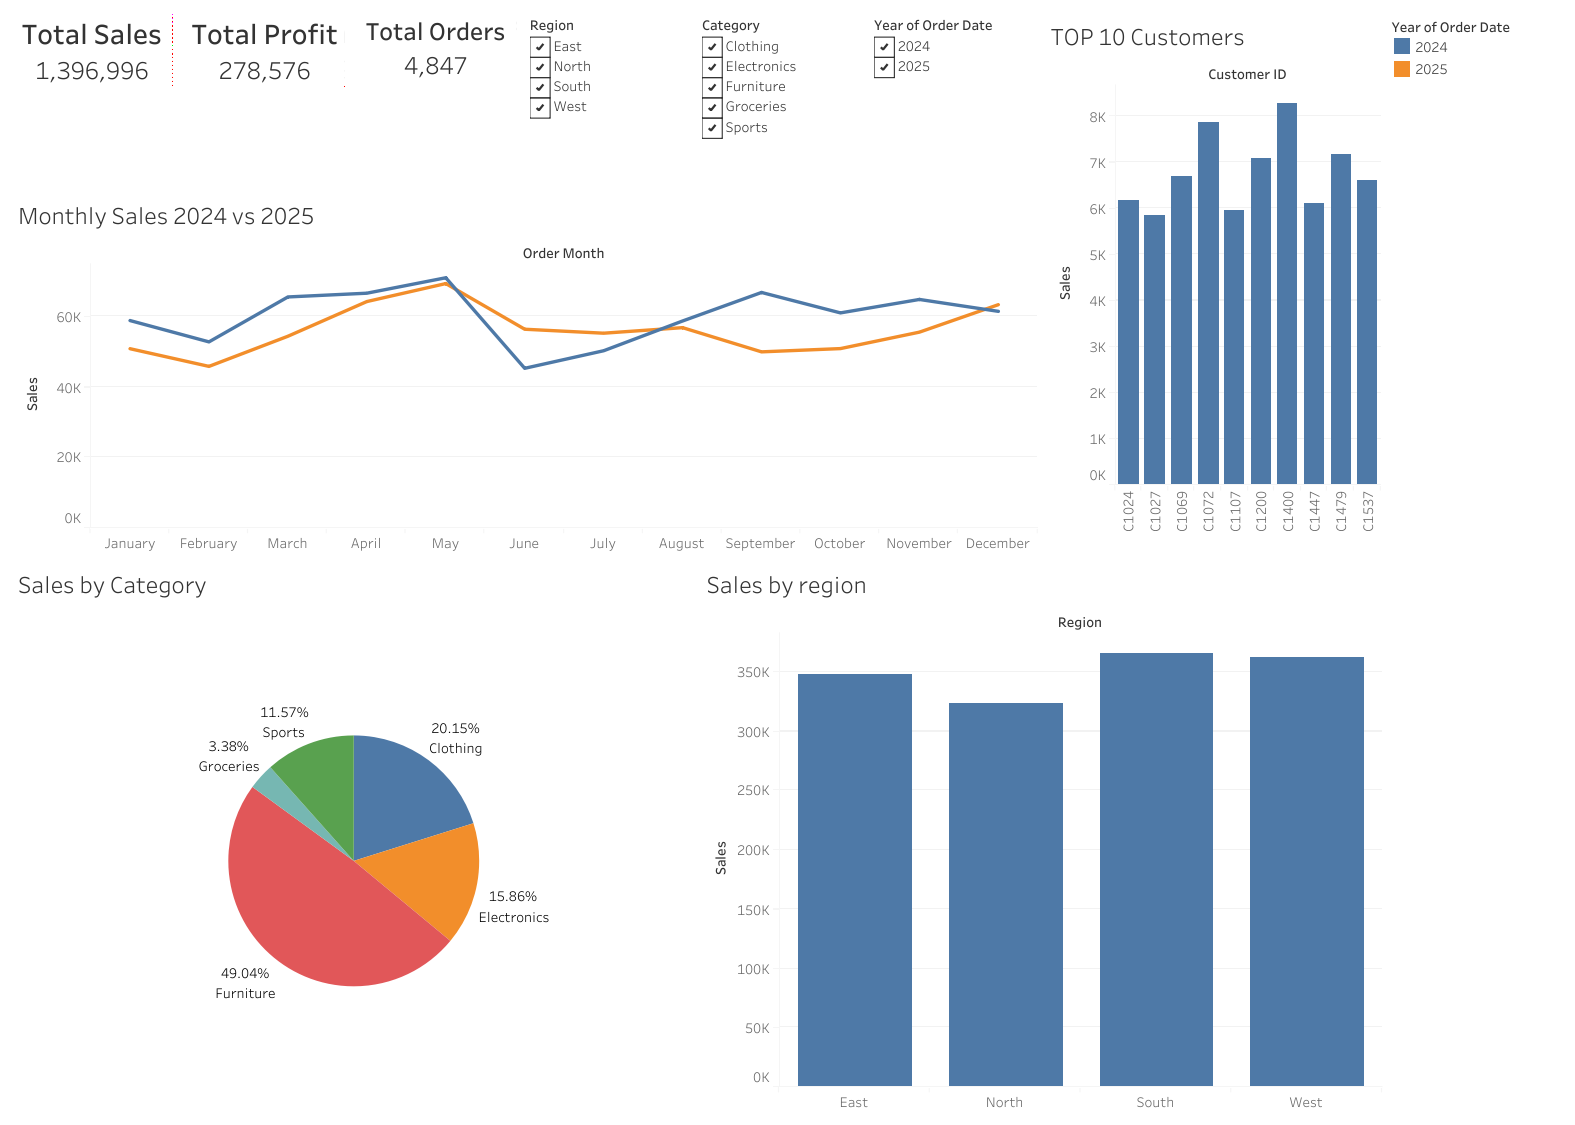

The dashboard page shown, as its layout file describes it:
{"tool":"powerbi","page":{"name":"Page 1","canvas":[1920,1080],"ordinal":0},"visuals":[{"type":"cardVisual","fields":{"Data":["retail_sales_clean_data.Total Sales"]},"box":[314.7,11,170,90],"z":0},{"type":"cardVisual","fields":{"Data":["retail_sales_clean_data.Total Orders Display"]},"box":[654.9,11.3,170,90],"z":1000},{"type":"cardVisual","fields":{"Data":["retail_sales_clean_data.Total Profit"]},"box":[484.6,12.9,170,90],"z":2000},{"type":"cardVisual","fields":{"Data":["retail_sales_clean_data.Return Rate %"]},"box":[1165.8,14.4,170,90],"z":3000},{"type":"cardVisual","fields":{"Data":["retail_sales_clean_data.Avg Order Value"]},"box":[995.5,14.4,170,90],"z":4000},{"type":"cardVisual","fields":{"Data":["retail_sales_clean_data.Profit Margin"]},"box":[825.2,12.9,170,90],"z":5000},{"type":"cardVisual","fields":{"Data":["retail_sales_clean_data.Avg Delivery Days"]},"box":[1335.3,15,170,90],"z":6000},{"type":"slicer","fields":{"Values":["retail_sales_clean_data.Order Year"]},"box":[316.7,117.7,360,244],"z":7000},{"type":"slicer","fields":{"Values":["retail_sales_clean_data.Region"]},"box":[692.7,117.7,368,242],"z":8000},{"type":"slicer","fields":{"Values":["retail_sales_clean_data.Category"]},"box":[1074.7,119.7,424,250],"z":9000},{"type":"lineChart","title":"Monthly Sales 2024 vs 2025","fields":{"Category":["retail_sales_clean_data.Order Month Num"],"Series":["retail_sales_clean_data.Order Year"],"Y":["retail_sales_clean_data.Total Sales"]},"box":[316.7,361.7,586,428],"z":10000},{"type":"clusteredBarChart","title":"Sales by Region","fields":{"Category":["retail_sales_clean_data.Region"],"Y":["retail_sales_clean_data.Total Sales"]},"box":[902.7,789.7,596,288],"z":10001},{"type":"donutChart","title":"Sales Share by Category","fields":{"Category":["retail_sales_clean_data.Category"],"Y":["retail_sales_clean_data.Total Sales"]},"box":[316.7,789.7,586,288],"z":10002},{"type":"tableEx","title":"Top 10 Customers","fields":{"Values":["retail_sales_clean_data.Customer ID","retail_sales_clean_data.Total Sales"]},"box":[902.7,361.7,596,428],"z":10003},{"type":"textbox","box":[0,0,297.5,1077.5],"z":10004}]}

Visuals, with their boxes on the page's 1920x1080 design canvas (x1, y1, x2, y2). These are canvas units, not pixel positions in the 1575x1125 screenshot, which may show the page scaled, cropped or inside an application window:
cardVisual - retail_sales_clean_data.Total Sales: (left=315, top=11, right=485, bottom=101)
cardVisual - retail_sales_clean_data.Total Orders Display: (left=655, top=11, right=825, bottom=101)
cardVisual - retail_sales_clean_data.Total Profit: (left=485, top=13, right=655, bottom=103)
cardVisual - retail_sales_clean_data.Return Rate %: (left=1166, top=14, right=1336, bottom=104)
cardVisual - retail_sales_clean_data.Avg Order Value: (left=996, top=14, right=1166, bottom=104)
cardVisual - retail_sales_clean_data.Profit Margin: (left=825, top=13, right=995, bottom=103)
cardVisual - retail_sales_clean_data.Avg Delivery Days: (left=1335, top=15, right=1505, bottom=105)
slicer - retail_sales_clean_data.Order Year: (left=317, top=118, right=677, bottom=362)
slicer - retail_sales_clean_data.Region: (left=693, top=118, right=1061, bottom=360)
slicer - retail_sales_clean_data.Category: (left=1075, top=120, right=1499, bottom=370)
"Monthly Sales 2024 vs 2025" lineChart: (left=317, top=362, right=903, bottom=790)
"Sales by Region" clusteredBarChart: (left=903, top=790, right=1499, bottom=1078)
"Sales Share by Category" donutChart: (left=317, top=790, right=903, bottom=1078)
"Top 10 Customers" tableEx: (left=903, top=362, right=1499, bottom=790)
textbox: (left=0, top=0, right=298, bottom=1078)
